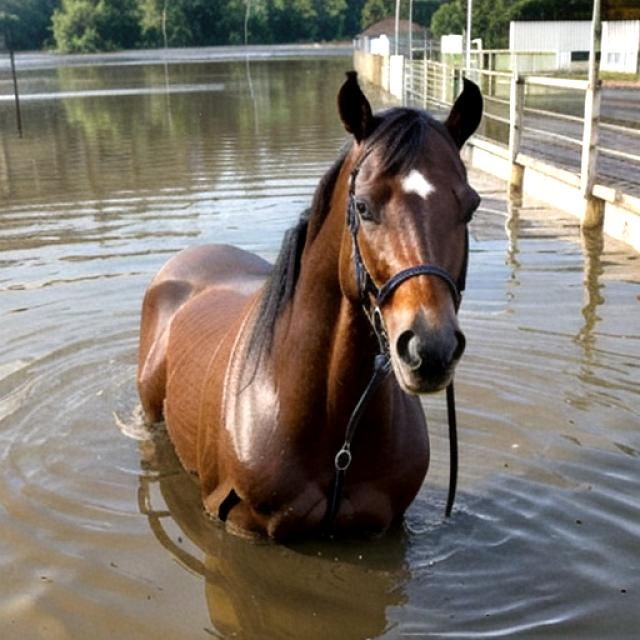horse: (127, 54, 518, 584)
